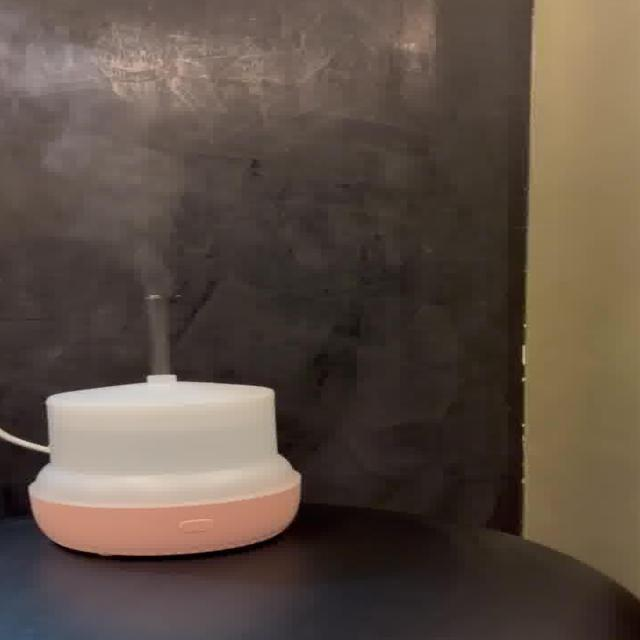fire: (9, 101, 188, 372)
